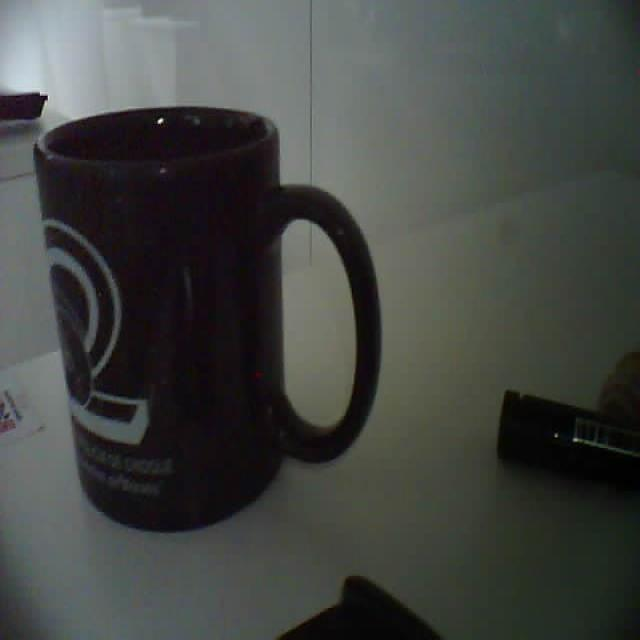caneca: (34, 107, 380, 529)
